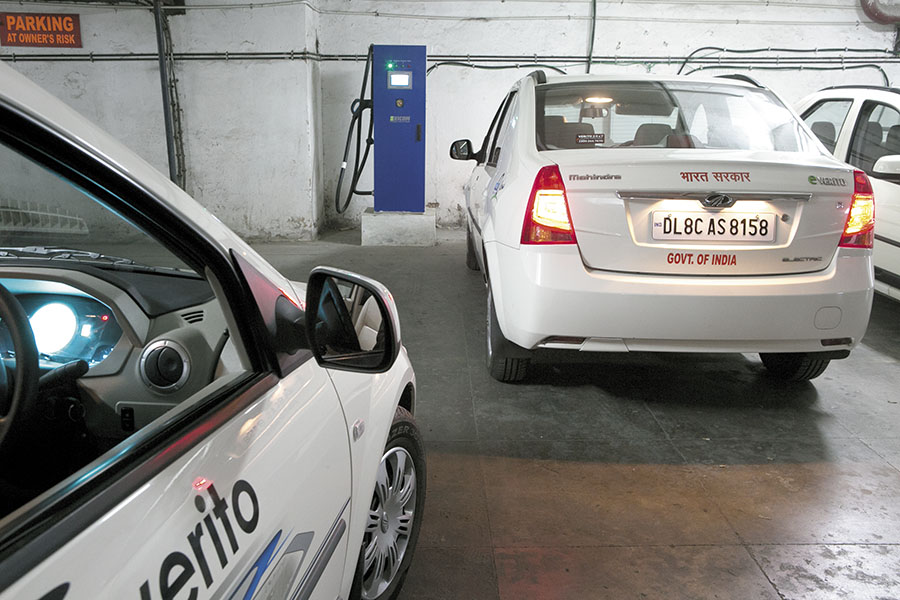numberplate: (647, 208, 781, 246)
